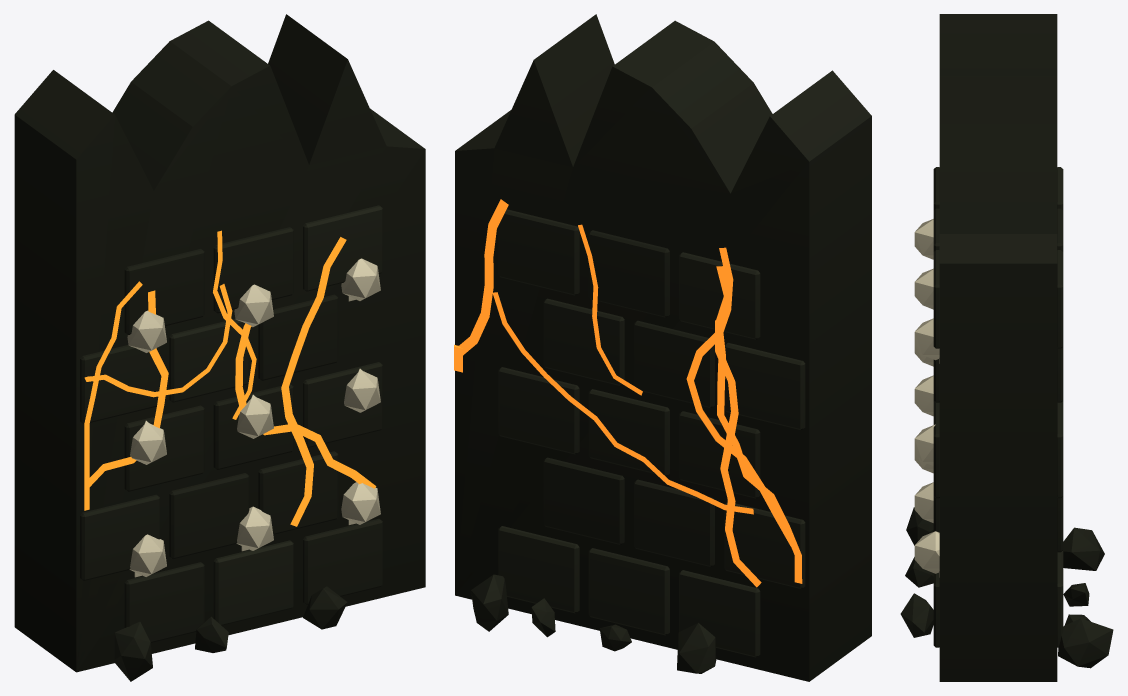
The model's file is broken_wall.glb.
3 views of the same model, side by side, from view 1: azimuth 30°, elevation 25°; view 2: azimuth 150°, elevation 25°; view 3: azimuth 270°, elevation 25° (orthographic). The views are drawn at different scales.
Parts seen in each view (by area): view 1: broken_wall_mesh; view 2: broken_wall_mesh; view 3: broken_wall_mesh.
Part boxes in pixels (box(x1,y1,x2,y2)): broken_wall_mesh: box(14, 14, 425, 681); broken_wall_mesh: box(454, 14, 871, 681); broken_wall_mesh: box(900, 14, 1113, 681).
Bounding box in the file's own units: 1.96 × 3.07 × 1.08.
